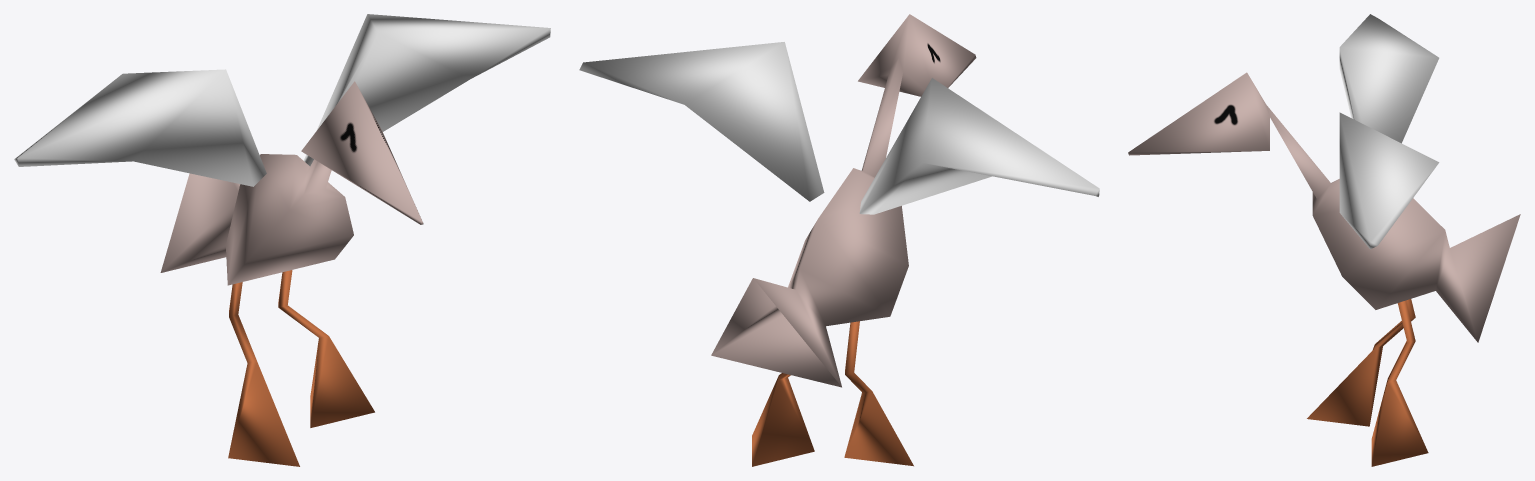
The model's file is heron.dae.
The picture shows the model from 3 angles, left to right: view 1: azimuth 30°, elevation 25°; view 2: azimuth 150°, elevation 25°; view 3: azimuth 270°, elevation 25°; orthographic projection. The views are drawn at different scales.
Visible parts, largest first — view 1: Body, Wing_R, Wing_L, Foot_R, Foot_L; view 2: Body, Wing_L, Wing_R, Foot_R, Foot_L; view 3: Body, Wing_R, Wing_L, Foot_L, Foot_R.
Part boxes in pixels (x1,y1,x2,y2): Body: [160, 81, 423, 285]; Wing_R: [14, 69, 266, 186]; Wing_L: [303, 14, 550, 166]; Foot_R: [228, 282, 299, 466]; Foot_L: [278, 270, 374, 427]; Body: [711, 14, 976, 387]; Wing_L: [579, 42, 824, 201]; Wing_R: [859, 78, 1099, 214]; Foot_R: [844, 321, 913, 466]; Foot_L: [752, 373, 814, 466]; Body: [1128, 72, 1520, 342]; Wing_R: [1339, 14, 1439, 143]; Wing_L: [1339, 112, 1439, 249]; Foot_L: [1371, 300, 1428, 466]; Foot_R: [1307, 299, 1415, 426].
Size of the model in its own units: 8.09 by 5.9 by 5.89.
5 materials, 3 textured.
